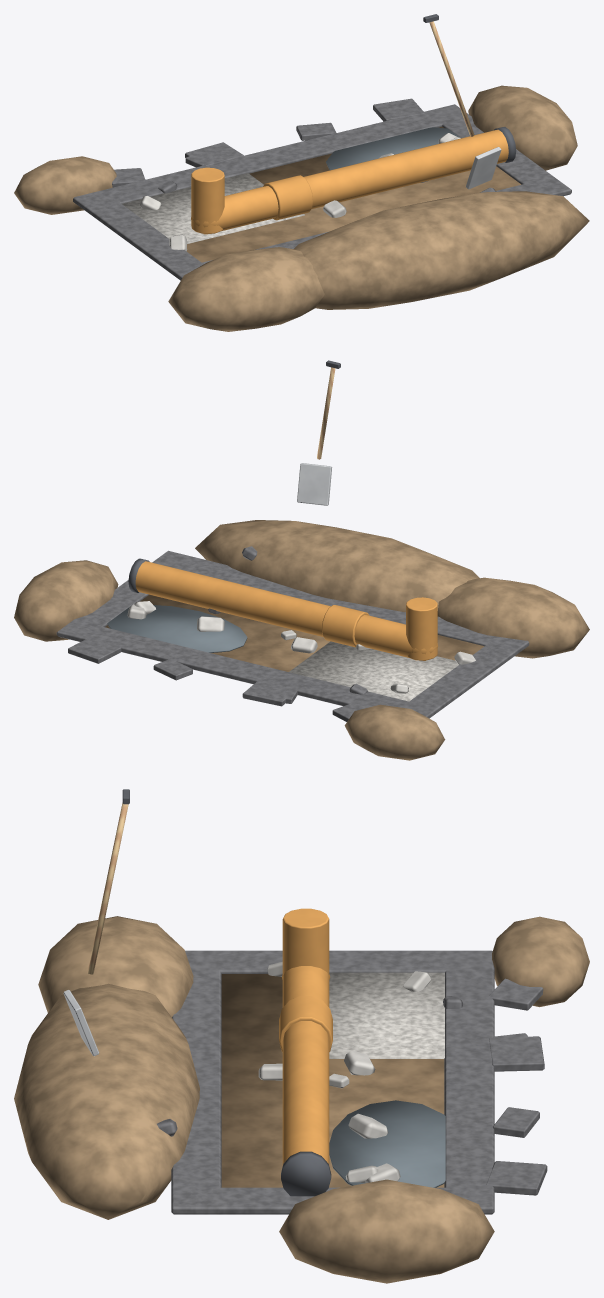
File: Obras_Pit.fbx
3 views of the same model, one above another, from view 1: azimuth 30°, elevation 25°; view 2: azimuth 150°, elevation 25°; view 3: azimuth 270°, elevation 25° (orthographic). The views are drawn at different scales.
Visible parts, largest first — view 1: Obras_Pit; view 2: Obras_Pit; view 3: Obras_Pit.
Part boxes in pixels (x1,y1,x2,y2): Obras_Pit: (14,14,589,331); Obras_Pit: (14,360,589,760); Obras_Pit: (14,789,589,1283).
Size of the model in its own units: 4.3 by 2.26 by 3.2.
Materials: 1 (1 with a texture image).
